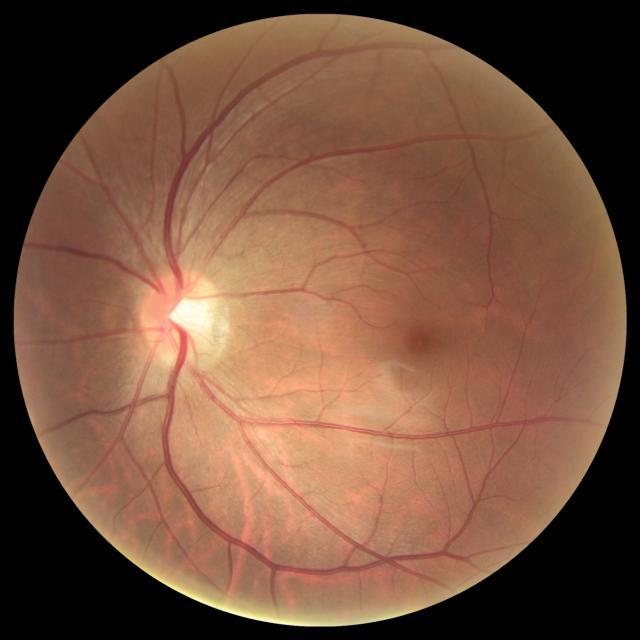OC: (167, 292, 206, 334)
OD: (138, 270, 222, 368)
